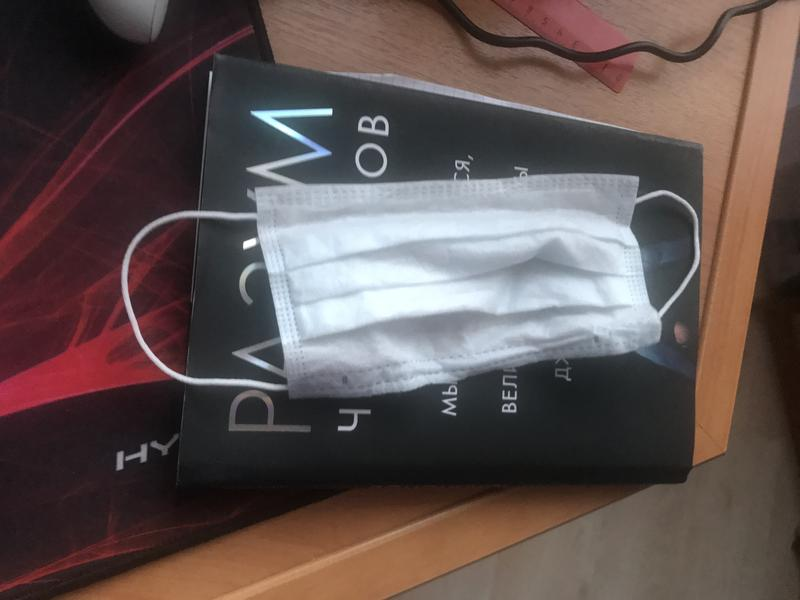medical_mask: (122, 176, 702, 394)
